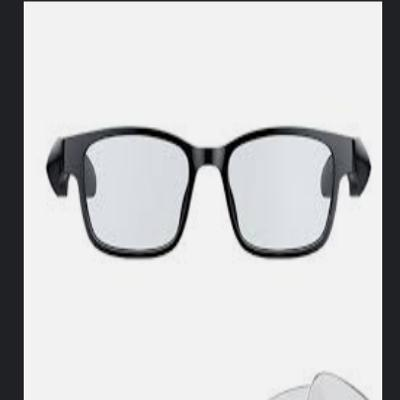glasses: (37, 123, 374, 264)
